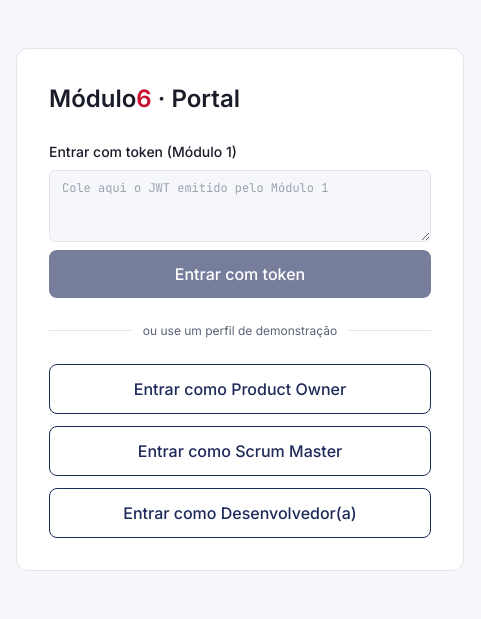
Scenario: LoginScreen › mostra a mensagem clara quando o token é recusado
Type "a.b.c" into the text box labelled "Entrar com token (Módulo 1)" at (240, 206), box [49,170,431,242]
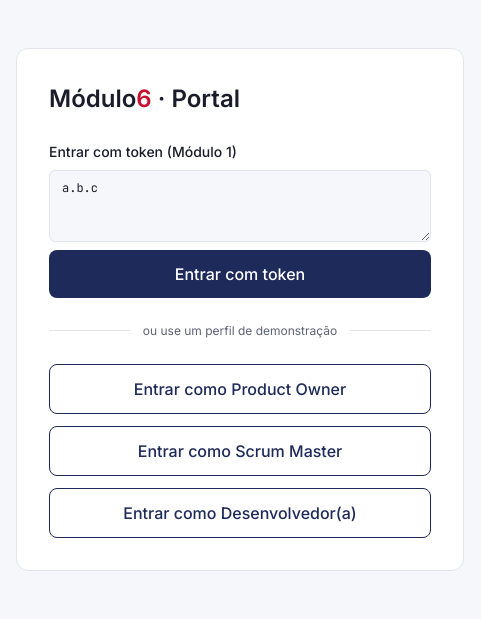
Click the button "Entrar com token" at (240, 274), box [49,250,431,298]
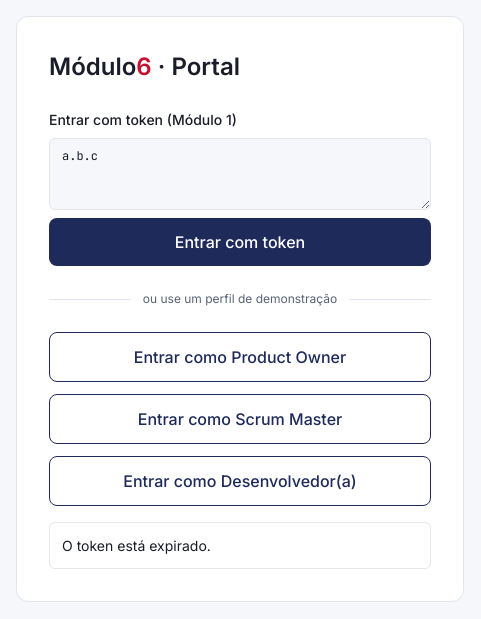
Expected: the message reads "O token está expirado.", [62,537,211,554]
